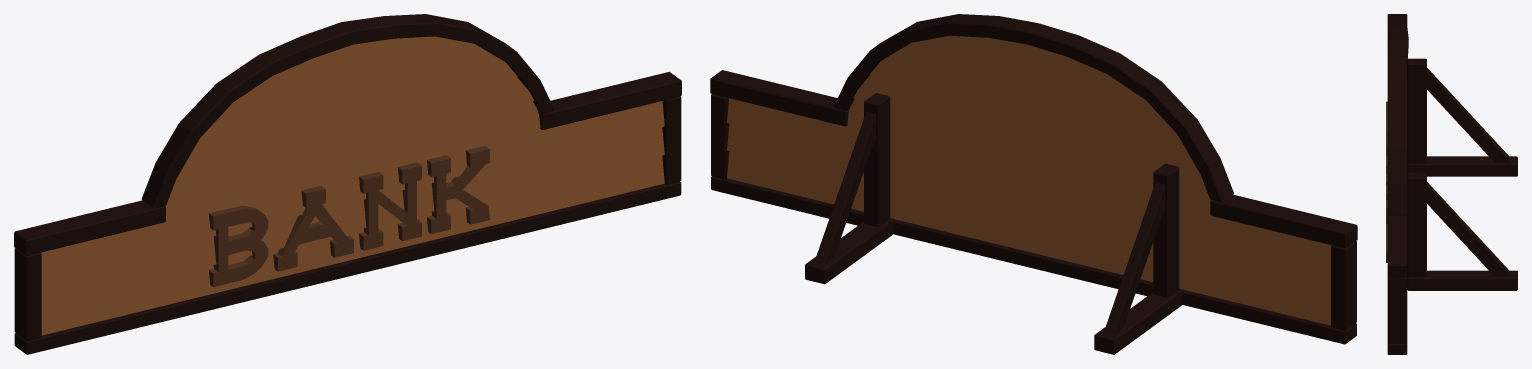
File: ww_bank_sign_b.glb
The picture shows the model from 3 angles, left to right: view 1: azimuth 30°, elevation 25°; view 2: azimuth 150°, elevation 25°; view 3: azimuth 270°, elevation 25°; orthographic projection. The views are drawn at different scales.
Visible parts, largest first — view 1: Bank_Sign_B; view 2: Bank_Sign_B; view 3: Bank_Sign_B.
Part boxes in pixels (bbox=[...]): Bank_Sign_B: bbox=[14, 14, 681, 354]; Bank_Sign_B: bbox=[710, 14, 1357, 354]; Bank_Sign_B: bbox=[1386, 14, 1517, 354].
Bounding box in the file's own units: 10.56 × 3.75 × 2.34.
